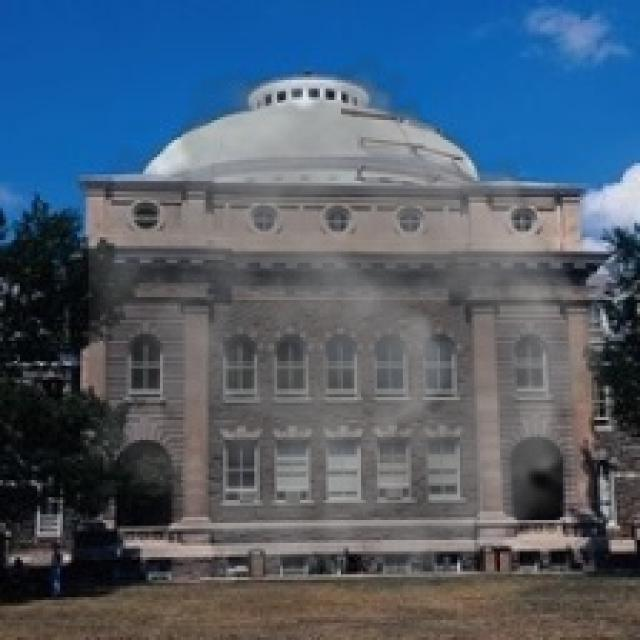smoke: (89, 52, 606, 617)
